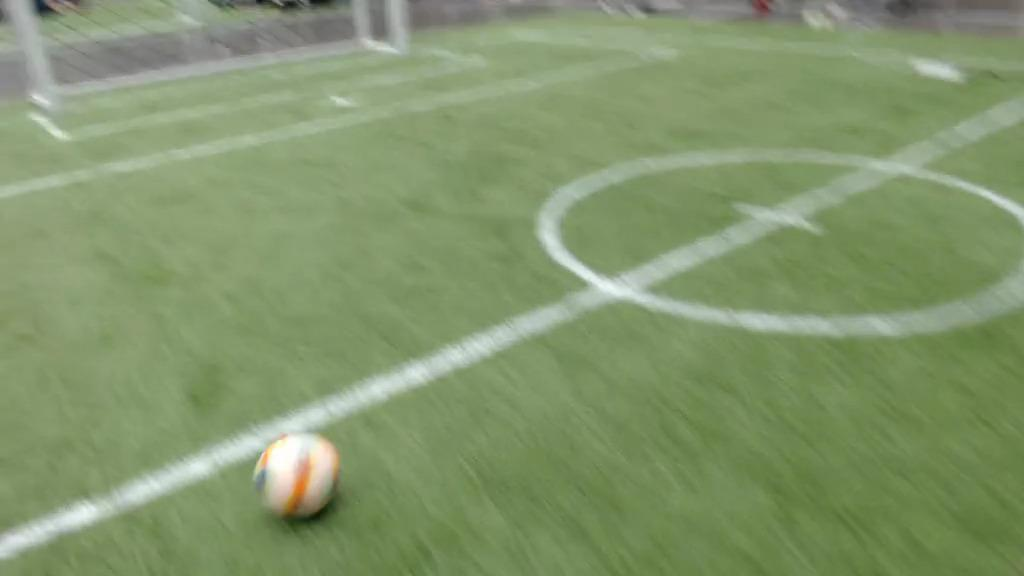ball: (254, 432, 340, 519)
